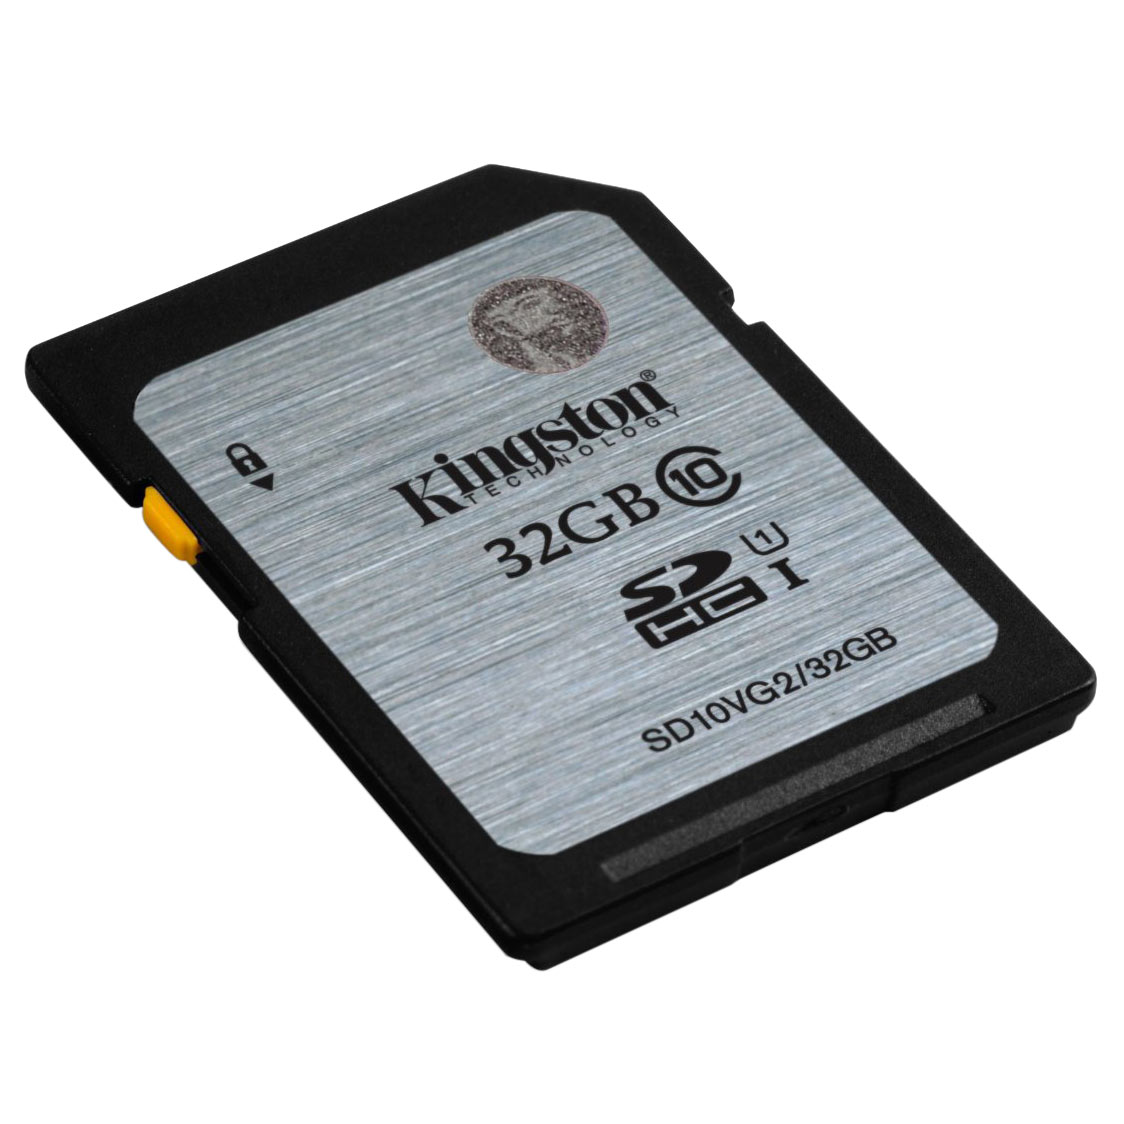Kingston: (383, 363, 683, 536)
